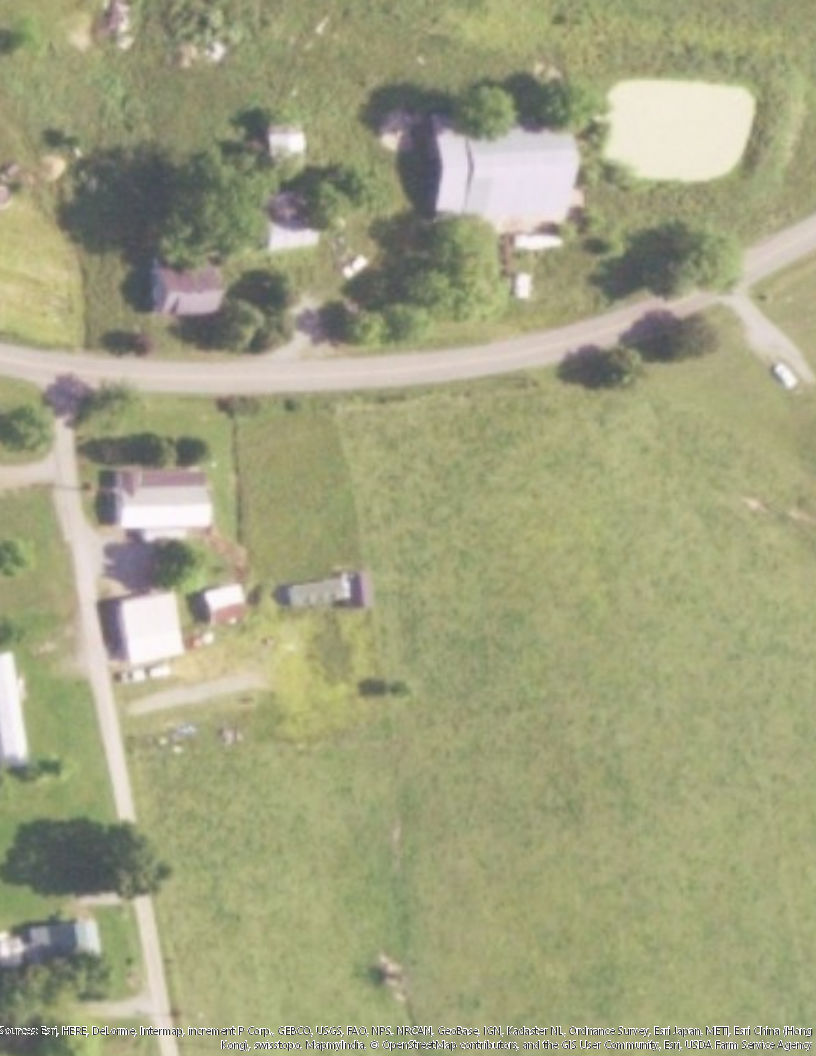cafo: (386, 94, 592, 247)
